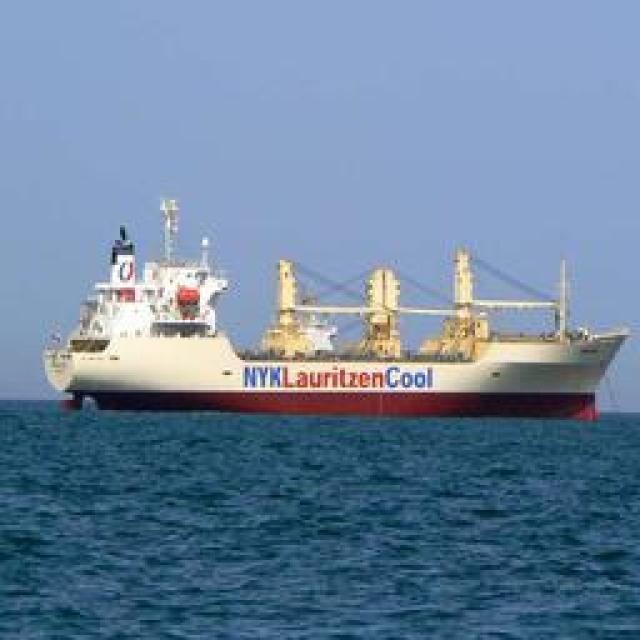CIV_Ship: (48, 208, 622, 414)
